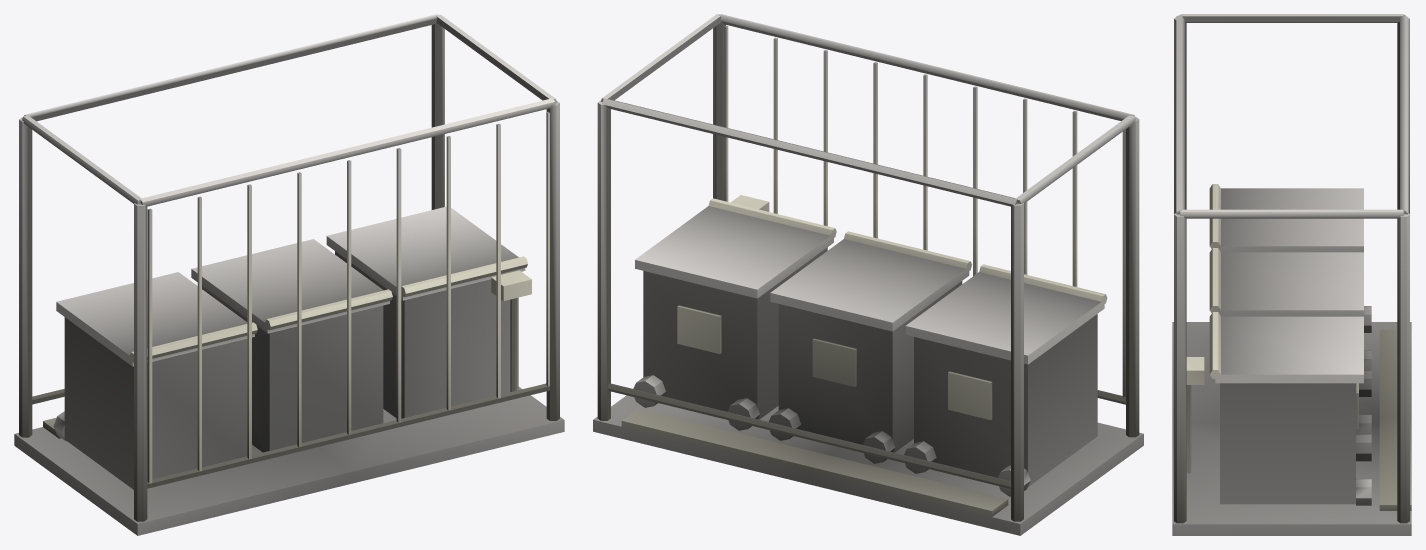
File: refuse_station.glb
The picture shows the model from 3 angles, left to right: view 1: azimuth 30°, elevation 25°; view 2: azimuth 150°, elevation 25°; view 3: azimuth 270°, elevation 25°; orthographic projection. The views are drawn at different scales.
Parts seen in each view (by area): view 1: refuse_station; view 2: refuse_station; view 3: refuse_station.
Boxes of the visible parts, box(x1,y1,x2,y2) form: refuse_station: box(14, 14, 564, 535); refuse_station: box(593, 14, 1143, 535); refuse_station: box(1172, 14, 1411, 535).
Size of the model in its own units: 3 by 2.23 by 1.5.
